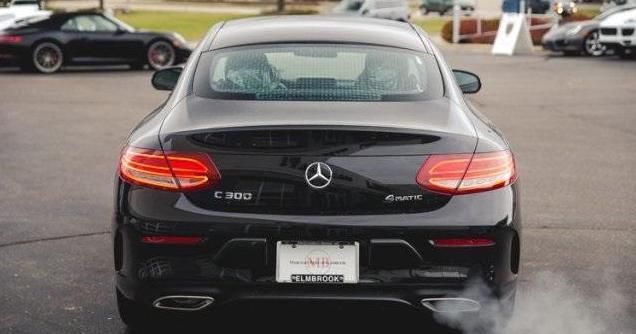C300Coupe: (100, 11, 540, 328)
